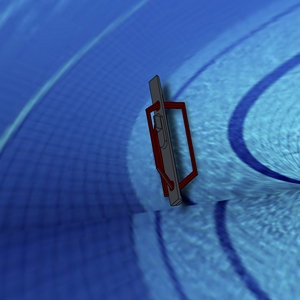submarine: (128, 53, 213, 226)
